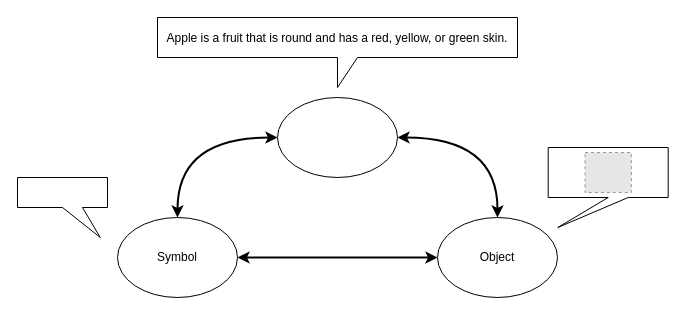
Some shapes in this 686 by 315 pixel diagram are drawn without their labels. Grey dashed boxes stand in for pictures. The box of each missing label's shape, as (x1, y1, x2, y2) in pixels:
Apple: (16, 176, 108, 238)
Concept: (276, 96, 398, 178)
